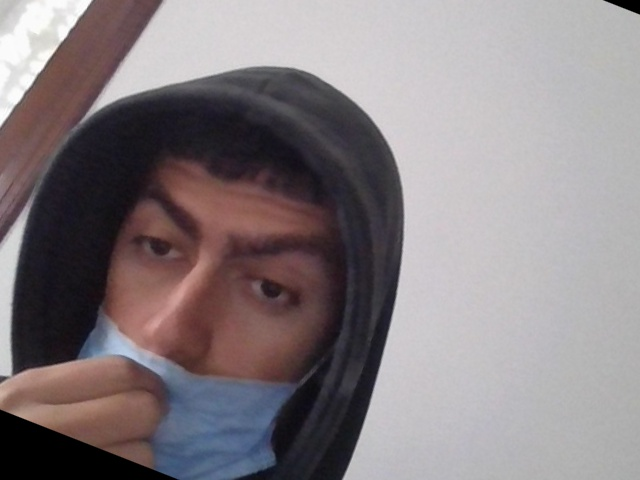mask_weared_incorrect: (72, 120, 358, 479)
